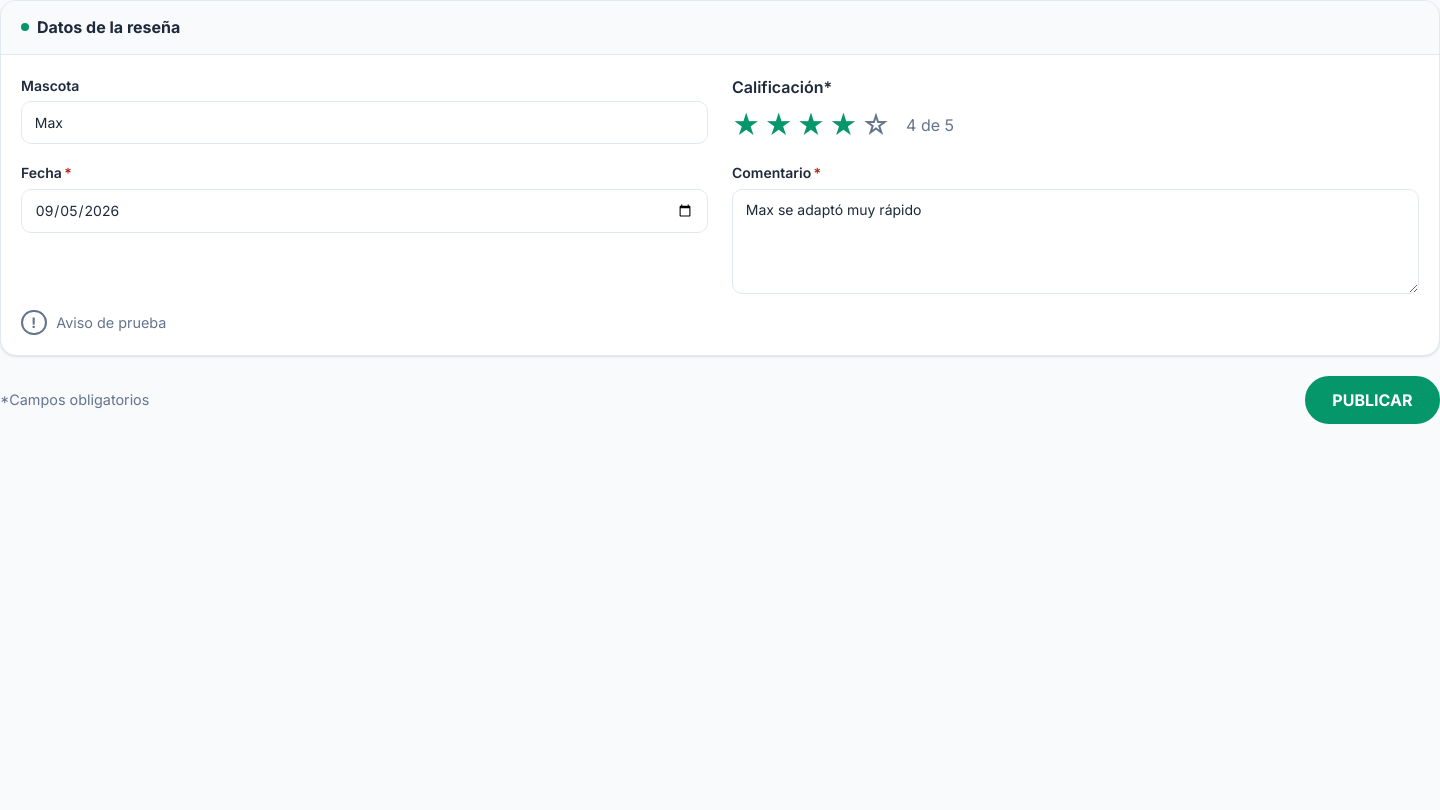
Test: ReviewForm › closes an error that is not tied to a field without marking any field
Click the button "Publicar" at (1372, 400), box [1305,376,1439,424]
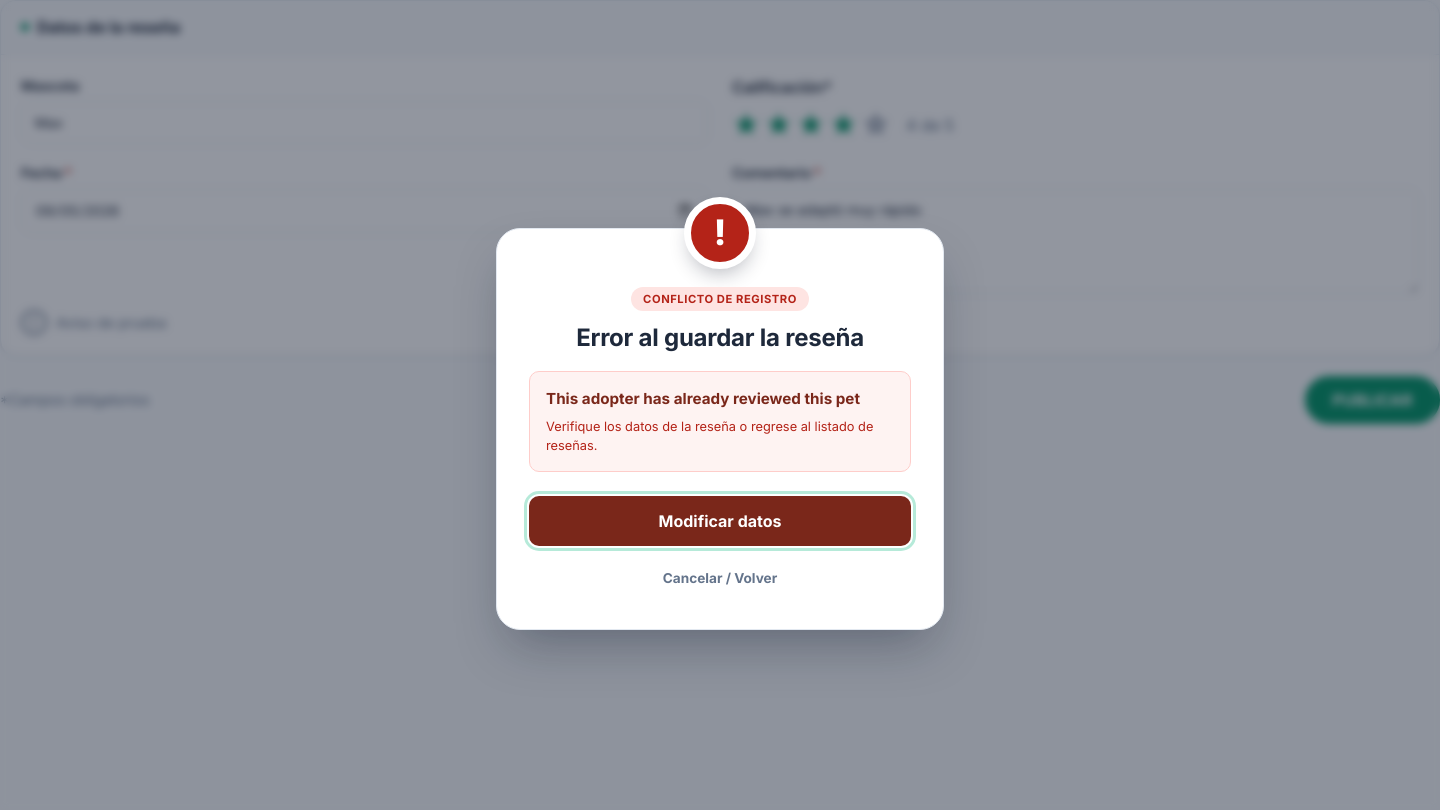
Now the dialog shows "already reviewed", box [546,389,860,408]
Click the button "Modificar datos" at (720, 521), box [529,496,911,546]
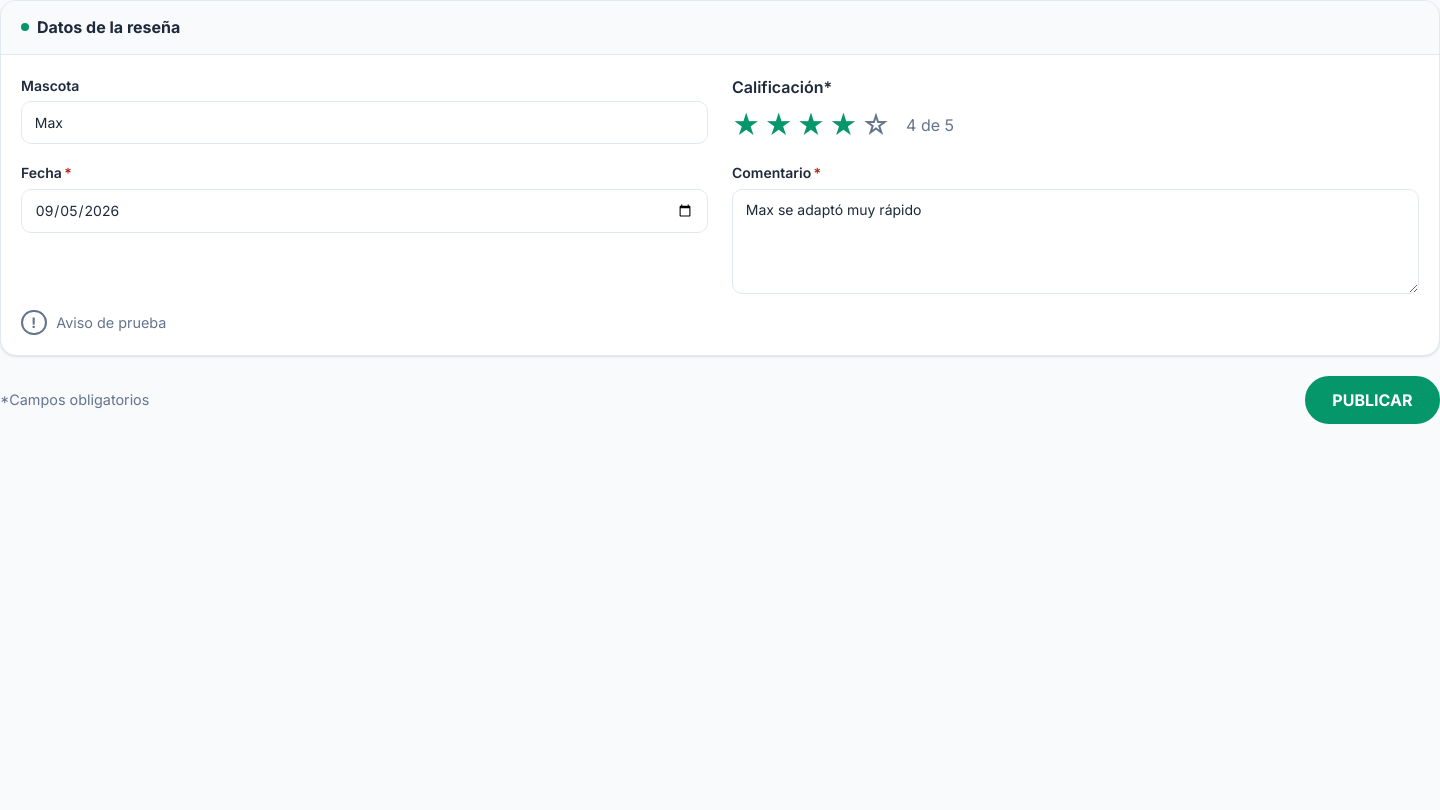
Expected: the button "Publicar" is enabled, [1305,376,1439,424]
Now the dialog is gone
